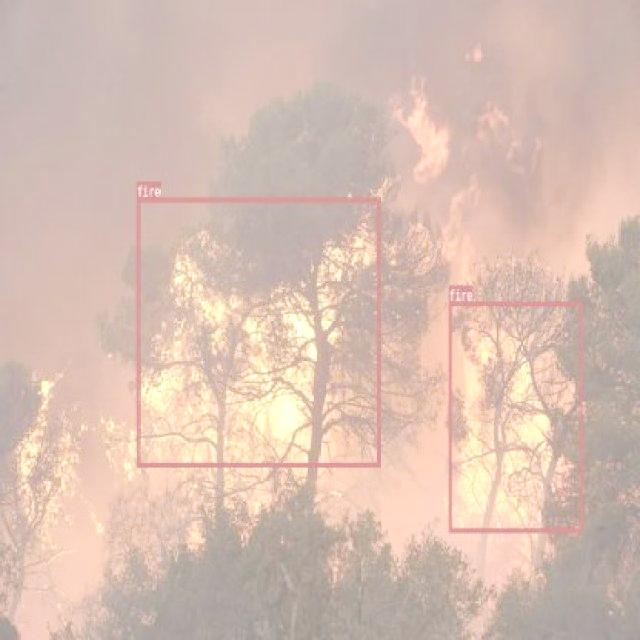fire: (136, 197, 379, 466), (448, 300, 582, 532)
